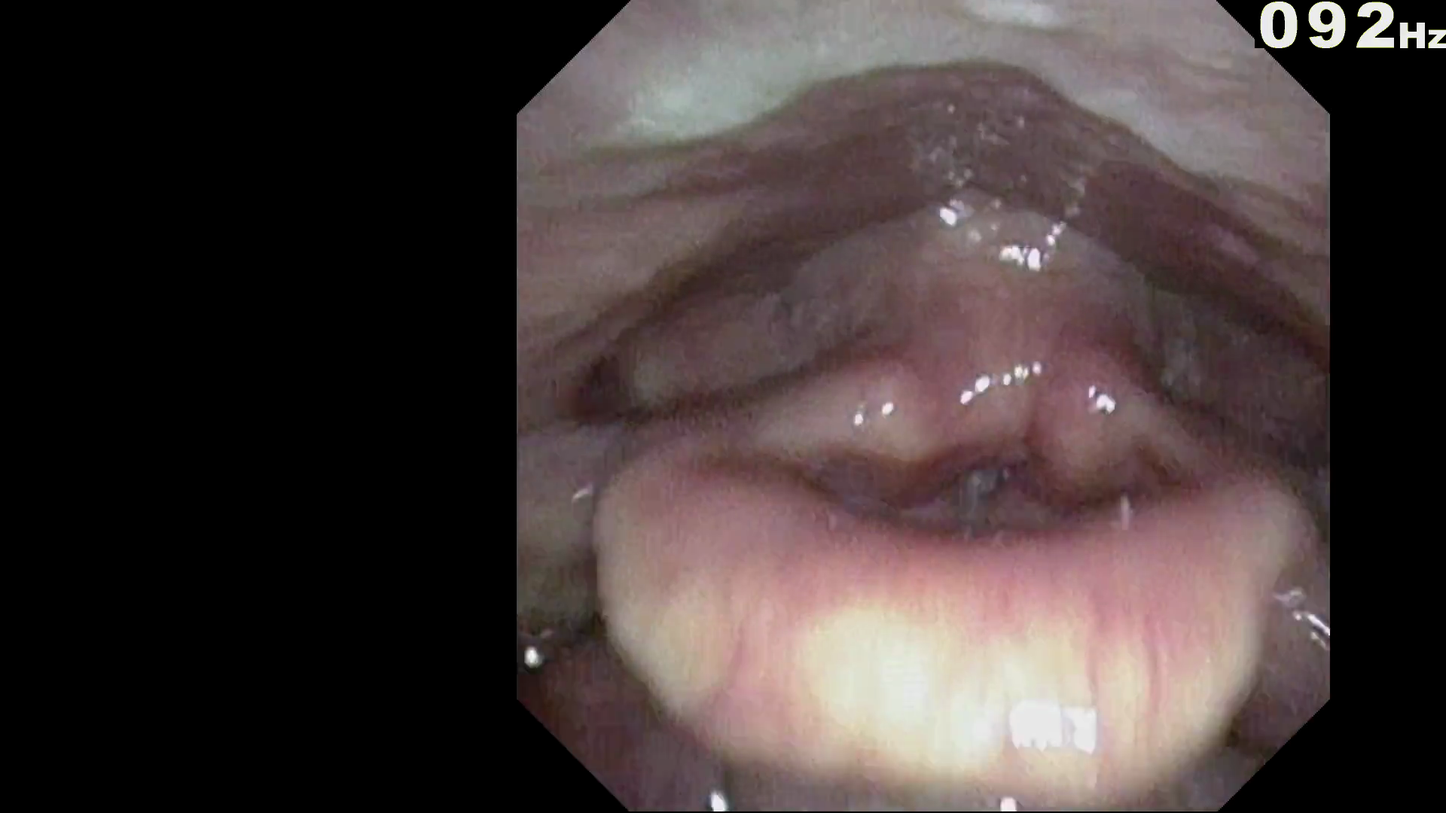epiglottis: (613, 352, 1225, 590)
